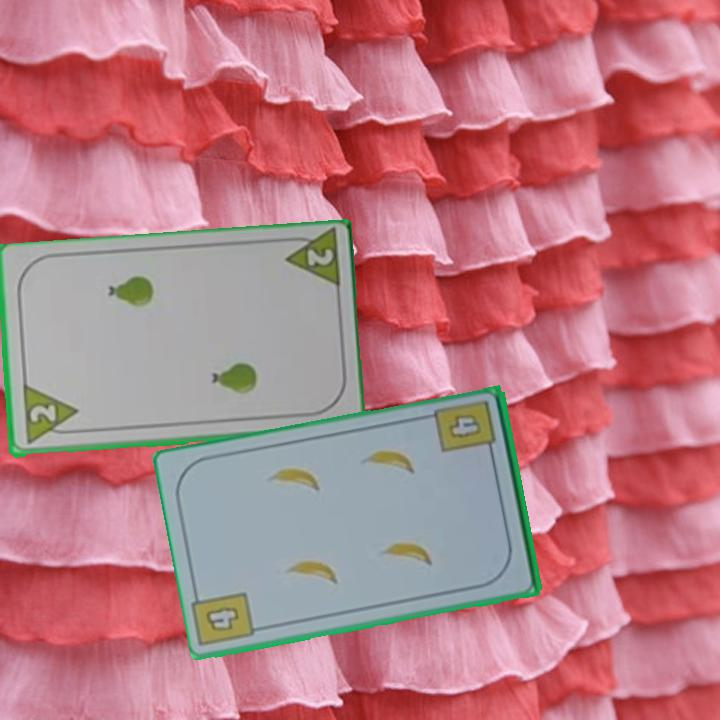2p: (19, 383, 81, 448), (303, 246, 336, 269)
4b: (433, 397, 499, 461), (201, 603, 242, 636)
